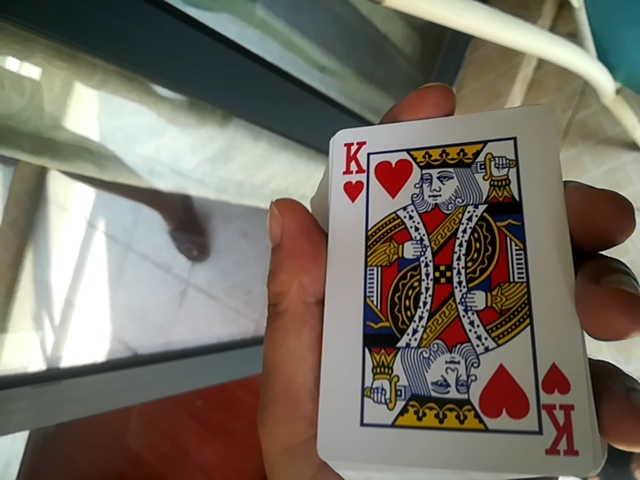hx k: (309, 113, 630, 478)
